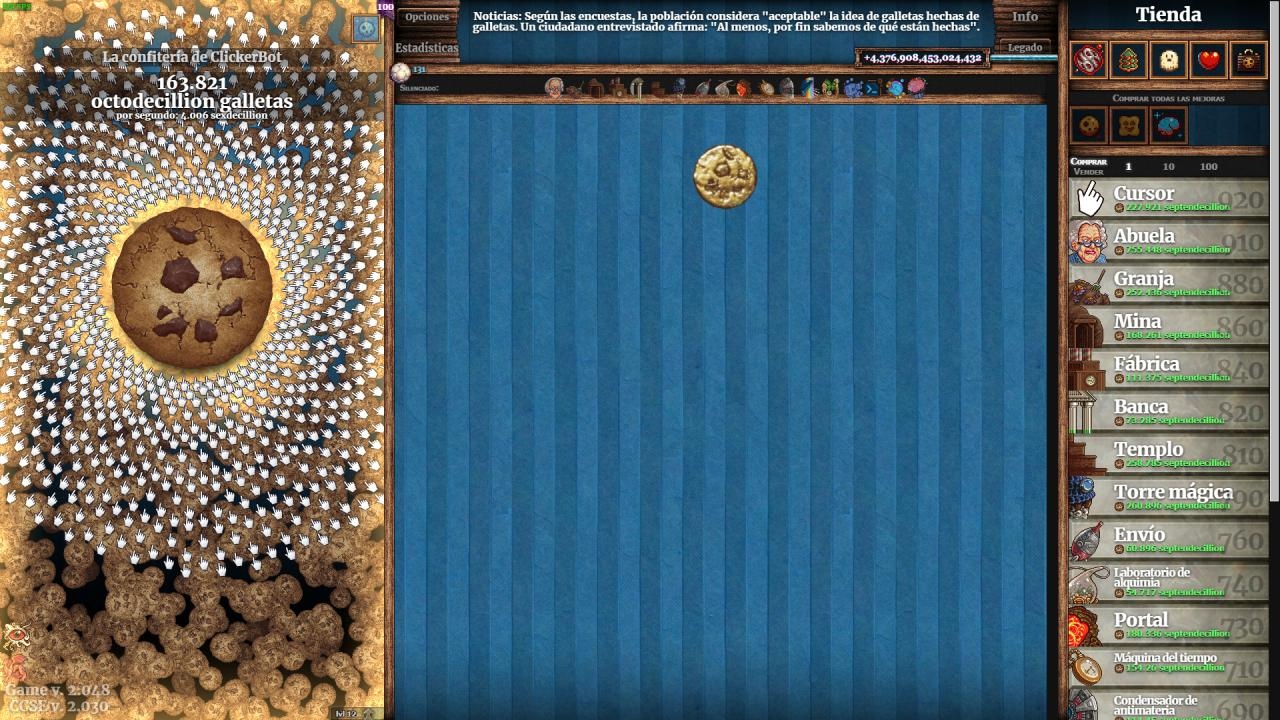GoldenCookie: (691, 142, 761, 211)
